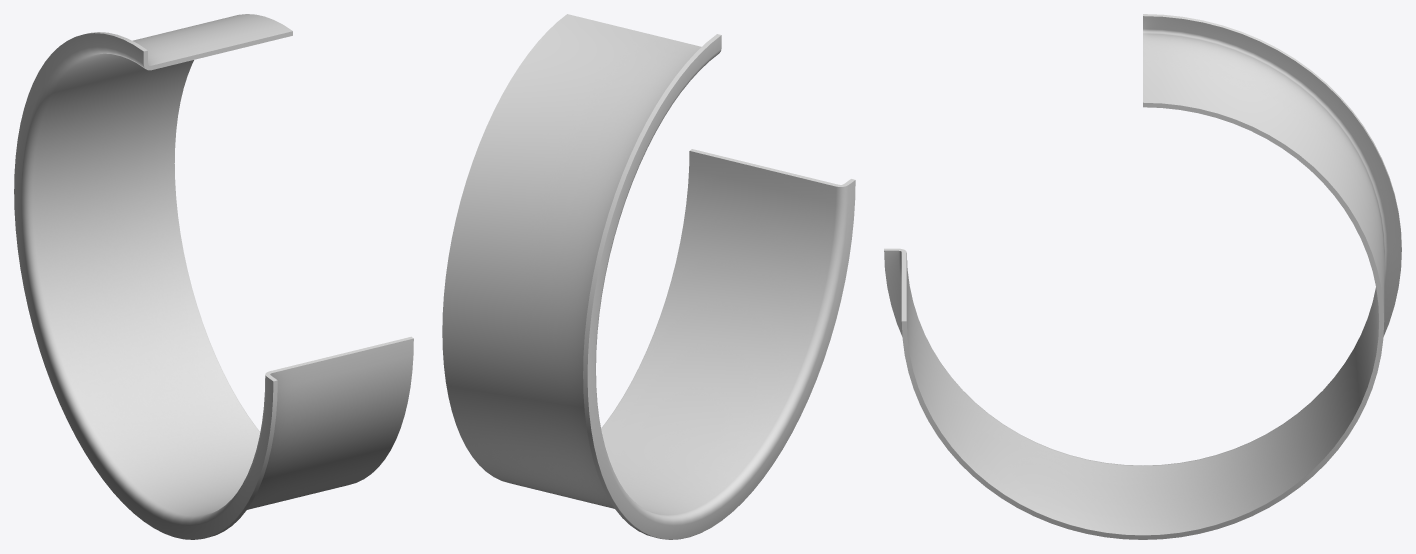
3 renders of one model, left to right at view 1: azimuth 30°, elevation 25°; view 2: azimuth 150°, elevation 25°; view 3: azimuth 270°, elevation 25°, orthographic. The views are drawn at different scales.
Parts seen in each view (by area): view 1: PR00112_shaft_repair_kit; view 2: PR00112_shaft_repair_kit; view 3: PR00112_shaft_repair_kit.
Boxes of the visible parts, box(x1,y1,x2,y2) form: PR00112_shaft_repair_kit: box(14, 14, 413, 539); PR00112_shaft_repair_kit: box(442, 14, 855, 539); PR00112_shaft_repair_kit: box(884, 14, 1401, 539).
Bounding box in the file's own units: 0.0657 × 0.1977 × 0.1977.
1 material, 1 textured.
